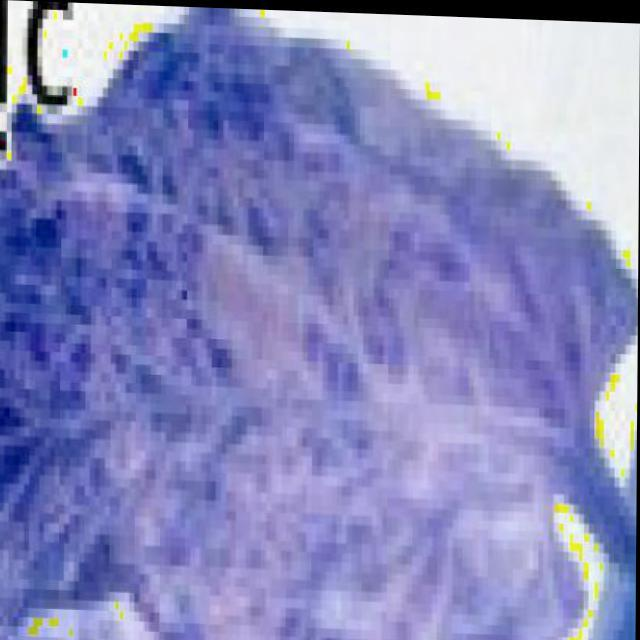Tomato yellow virus leaf: (0, 6, 639, 639)
